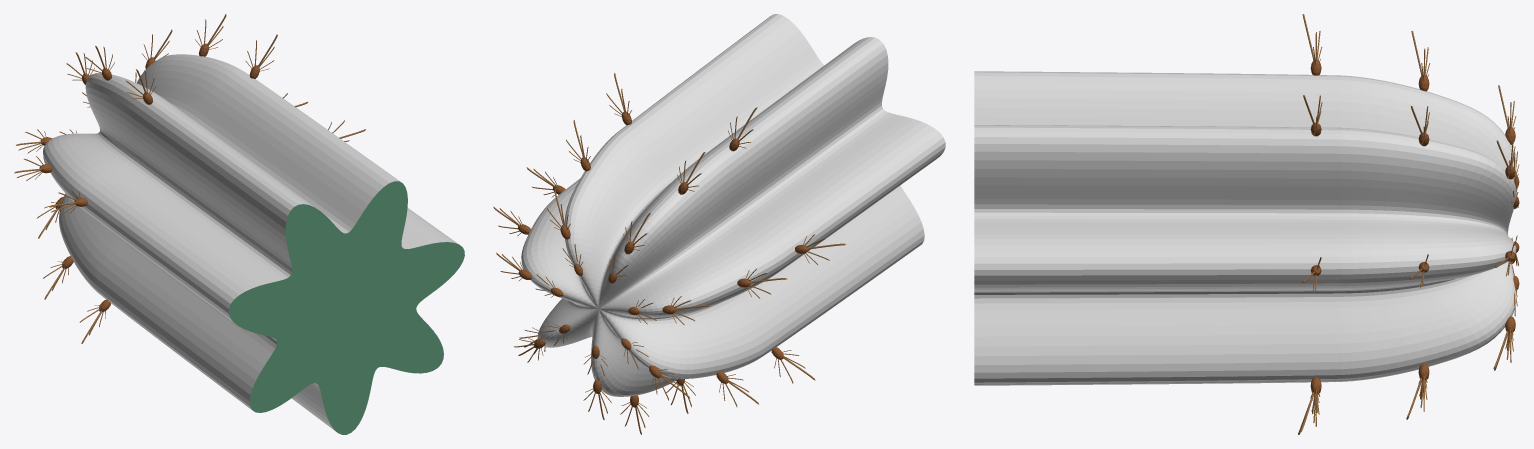
File: frame-048.glb
The picture shows the model from 3 angles, left to right: view 1: azimuth 30°, elevation 25°; view 2: azimuth 150°, elevation 25°; view 3: azimuth 270°, elevation 25°; orthographic projection. The views are drawn at different scales.
Parts seen in each view (by area): view 1: WACHUMA_Pachanoi_Frame_048; view 2: WACHUMA_Pachanoi_Frame_048; view 3: WACHUMA_Pachanoi_Frame_048.
Boxes of the visible parts, <box> form: WACHUMA_Pachanoi_Frame_048: <box>14,14,464,434</box>; WACHUMA_Pachanoi_Frame_048: <box>493,14,945,434</box>; WACHUMA_Pachanoi_Frame_048: <box>974,14,1519,434</box>.
Size of the model in its own units: 1.15 by 1.12 by 1.46.
